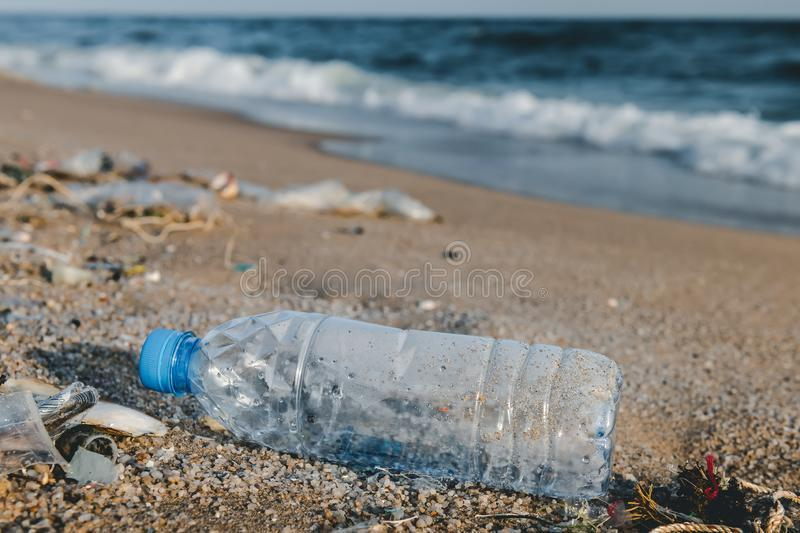bottle: (134, 296, 632, 524)
